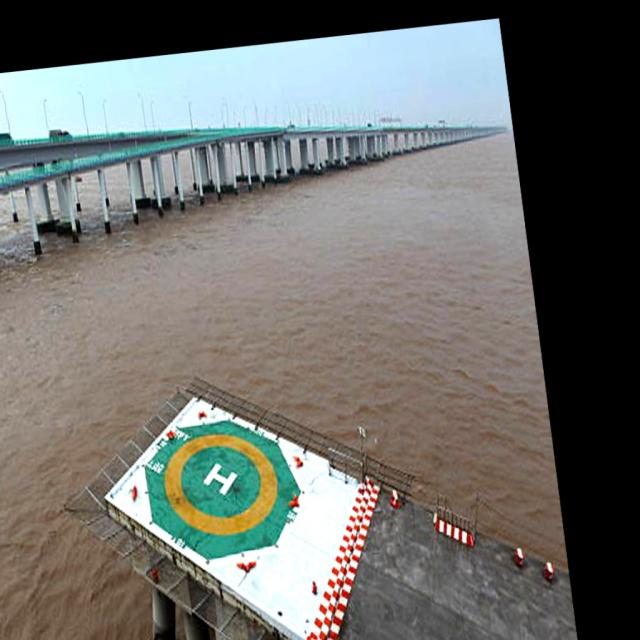helipad: (162, 428, 279, 537)
